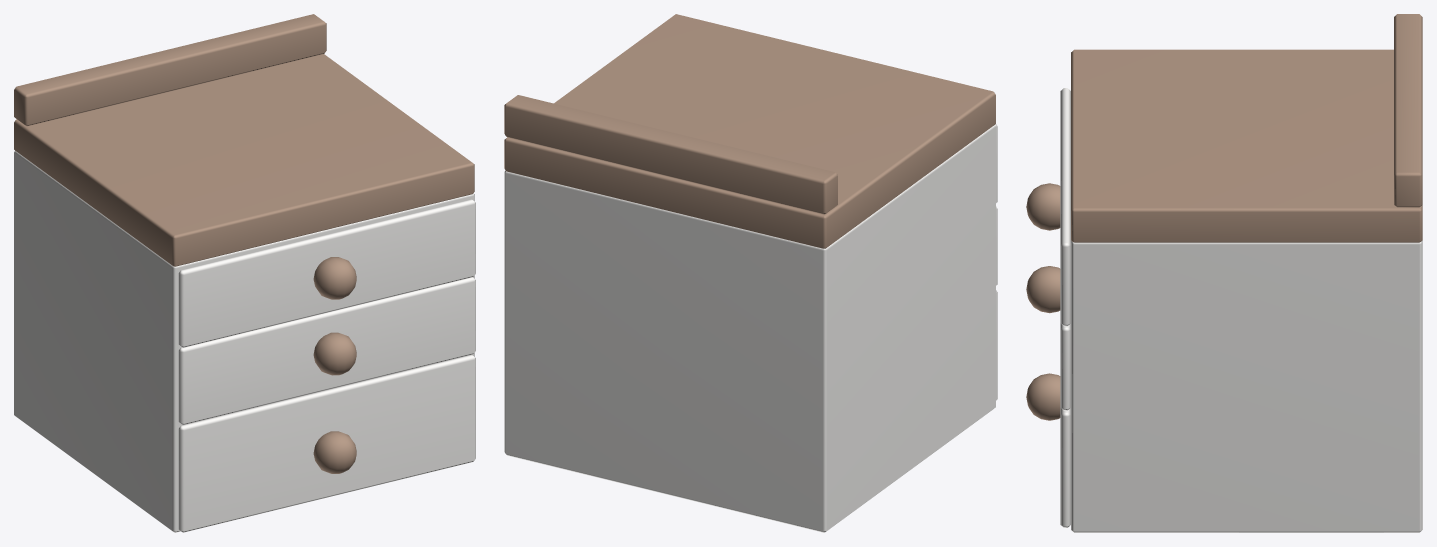
Rendered from Drawer_brown_3.glb.
3 views of the same model, side by side, from view 1: azimuth 30°, elevation 25°; view 2: azimuth 150°, elevation 25°; view 3: azimuth 270°, elevation 25° (orthographic). The views are drawn at different scales.
Visible parts, largest first — view 1: Kitchen_Cabinet_5; view 2: Kitchen_Cabinet_5; view 3: Kitchen_Cabinet_5.
Boxes of the visible parts, x1,y1,x2,y2 form: Kitchen_Cabinet_5: (14, 14, 475, 532); Kitchen_Cabinet_5: (504, 14, 997, 532); Kitchen_Cabinet_5: (1026, 14, 1422, 532).
Size of the model in its own units: 0.9976 by 1.04 by 1.04.
1 material, 1 textured.
